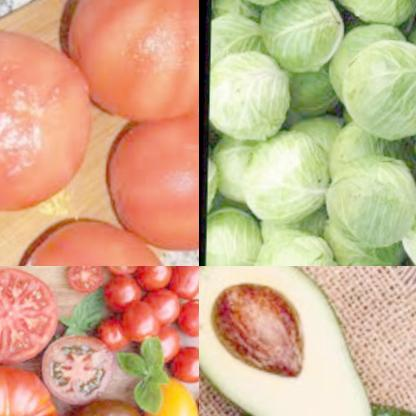avocado: (199, 266, 396, 416)
cabbage: (244, 122, 338, 256), (310, 154, 416, 252), (333, 35, 416, 153), (208, 47, 291, 164), (254, 0, 352, 77), (321, 0, 416, 40), (208, 205, 264, 266), (209, 0, 326, 22), (249, 242, 342, 266), (388, 190, 416, 266), (403, 88, 416, 196), (401, 0, 416, 81)
tomato: (0, 17, 91, 217), (68, 0, 199, 123), (65, 266, 199, 380), (105, 104, 199, 254), (3, 203, 175, 266), (0, 267, 61, 367), (38, 333, 119, 407), (0, 359, 67, 416), (141, 370, 199, 416), (67, 400, 139, 416)
